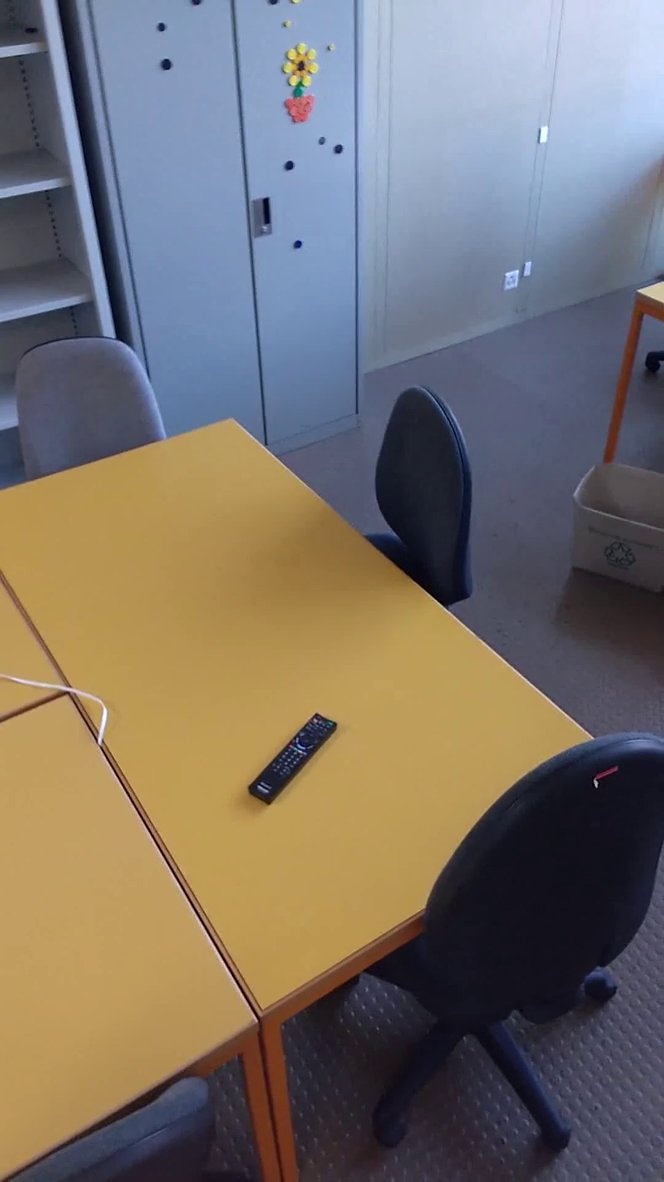box: (552, 450, 664, 603)
chair: (380, 725, 664, 1182), (348, 375, 488, 626), (9, 334, 185, 480)
remote: (238, 708, 352, 818)
